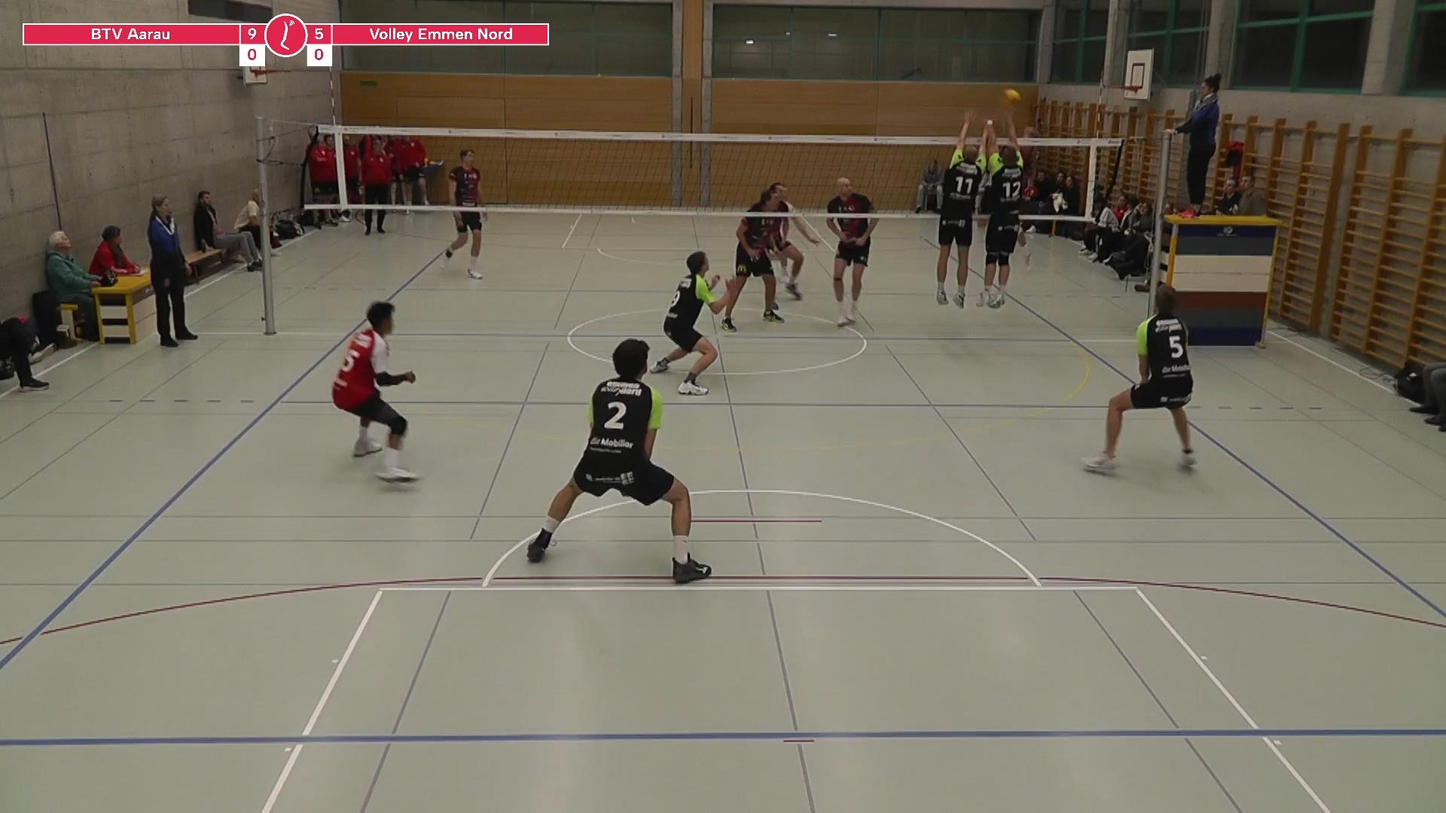Block: (927, 109, 1032, 316)
Player: (526, 340, 711, 583), (1084, 285, 1195, 473), (332, 302, 416, 482), (651, 251, 734, 394), (721, 188, 783, 332), (826, 178, 877, 326), (770, 183, 819, 300), (445, 212, 483, 279)
ball: (1002, 83, 1027, 108)
